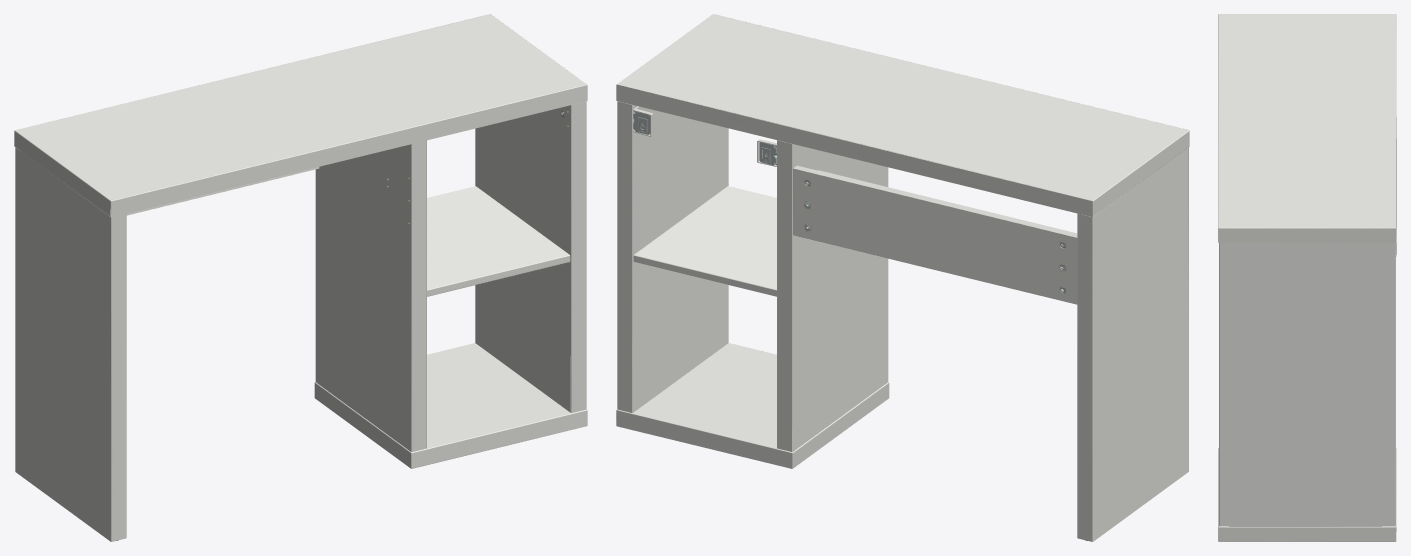
The model's file is kallax_biurko_30582445.glb.
3 renders of one model, left to right at view 1: azimuth 30°, elevation 25°; view 2: azimuth 150°, elevation 25°; view 3: azimuth 270°, elevation 25°, orthographic. The views are drawn at different scales.
Parts seen in each view (by area): view 1: kallax_biurko_30582445; view 2: kallax_biurko_30582445; view 3: kallax_biurko_30582445.
Boxes of the visible parts, x1,y1,x2,y2 form: kallax_biurko_30582445: [14, 14, 587, 541]; kallax_biurko_30582445: [616, 14, 1189, 541]; kallax_biurko_30582445: [1218, 14, 1396, 541].
Bounding box in the file's own units: 1.11 × 0.7651 × 0.3923.
Materials: 1 (1 with a texture image).
